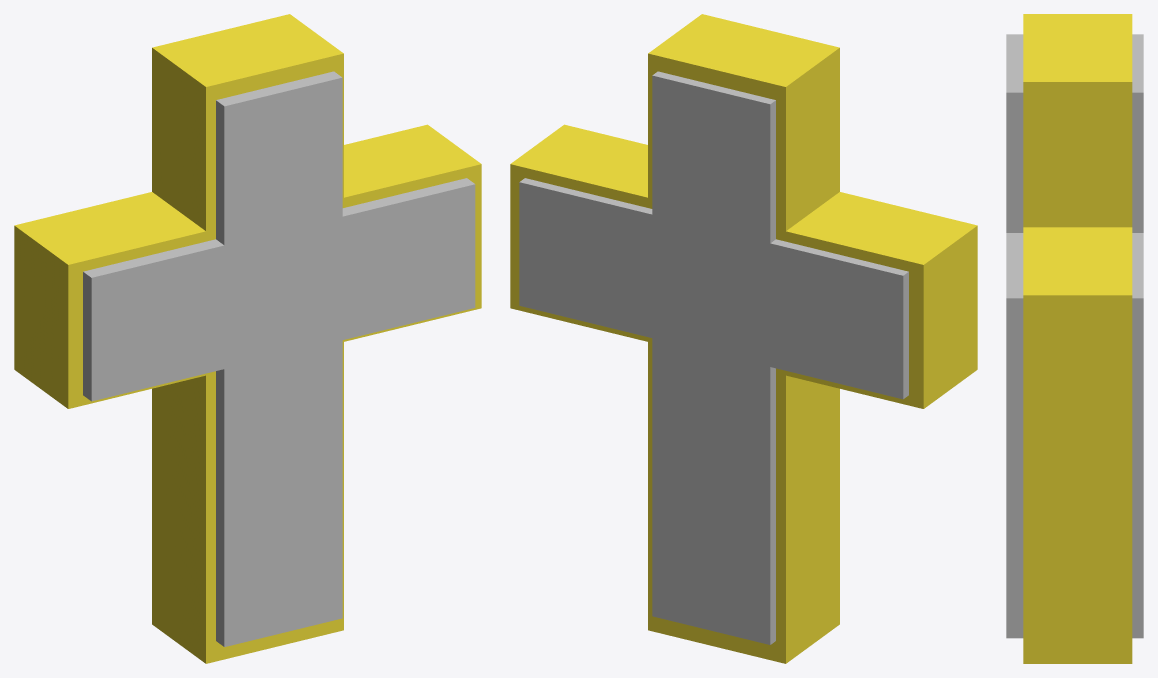
The picture shows the model from 3 angles, left to right: view 1: azimuth 30°, elevation 25°; view 2: azimuth 150°, elevation 25°; view 3: azimuth 270°, elevation 25°; orthographic projection.
Visible parts, largest first — view 1: mesh_1172049869, mesh_229633251, mesh_1875935545, mesh_2083030800; view 2: mesh_1172049869, mesh_1875935545, mesh_229633251, mesh_2083030800; view 3: mesh_1875935545, mesh_2083030800, mesh_1172049869, mesh_229633251.
Boxes of the visible parts, bbox=[...] form: mesh_1172049869: bbox=[216, 71, 342, 646]; mesh_229633251: bbox=[83, 178, 475, 401]; mesh_1875935545: bbox=[152, 14, 343, 663]; mesh_2083030800: bbox=[14, 124, 481, 408]; mesh_1172049869: bbox=[652, 71, 775, 644]; mesh_1875935545: bbox=[648, 14, 839, 663]; mesh_229633251: bbox=[519, 178, 908, 399]; mesh_2083030800: bbox=[510, 124, 977, 408]; mesh_1875935545: bbox=[1023, 14, 1132, 663]; mesh_2083030800: bbox=[1023, 227, 1132, 440]; mesh_1172049869: bbox=[1006, 34, 1143, 638]; mesh_229633251: bbox=[1006, 233, 1143, 422].
Bounding box in the file's own units: 28 × 37.33 × 8.
